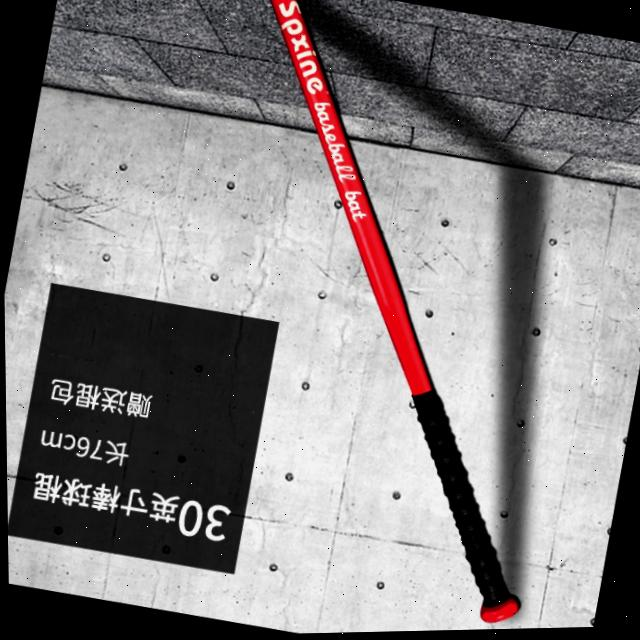baseball bat: (141, 0, 640, 638)
